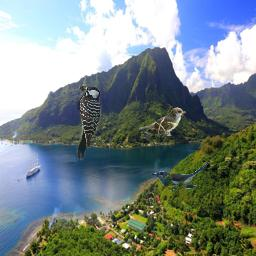Cuckoo: (151, 162, 210, 191), (139, 107, 186, 136)
Woodpecker: (76, 84, 102, 160)
